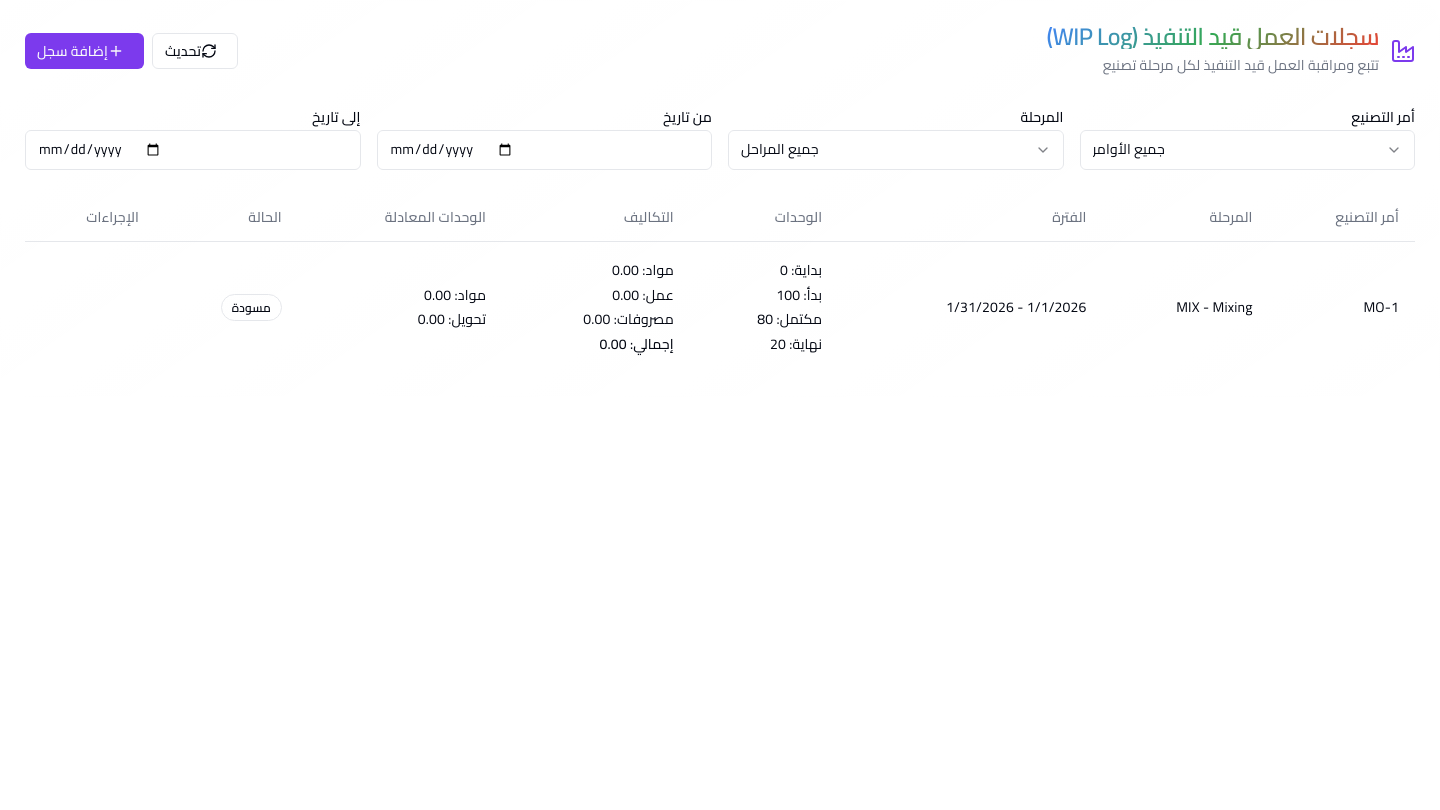
Scenario: StageWipLogList — manufacturing.stage_costs.create/.update and retired delete › revoking create mid-session (dialog already open) hides the save button and the mutation guard blocks the write
The width and height of the screenshot is (1440, 810).
expect the text "MO-1" is shown: met, box [1268,242,1415,372]
Step 1. Click the button "إضافة سجل" → (84, 51), box [25,33,144,69]
(page scrolled)
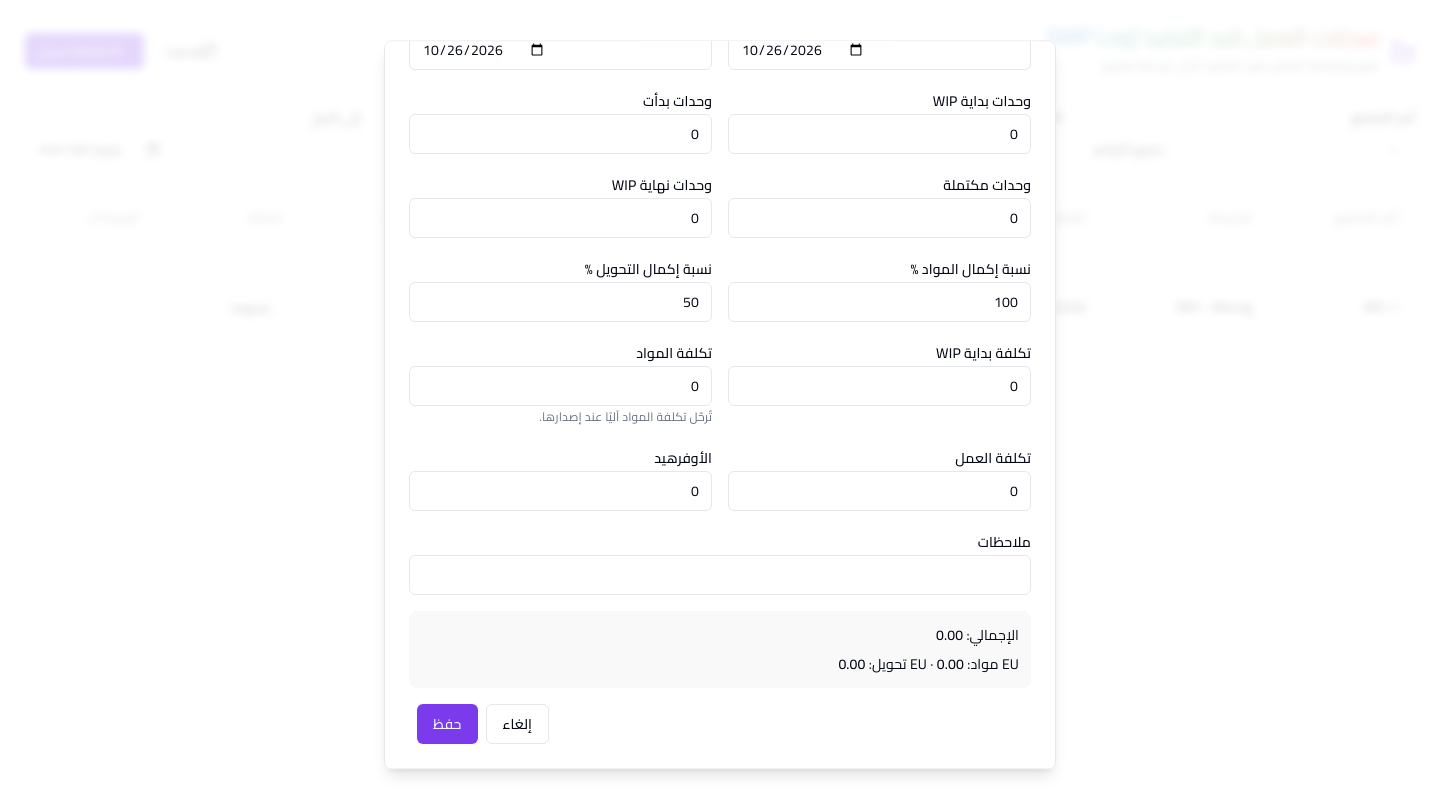
expect the button "حفظ" is shown: met, box [417,704,478,744]
